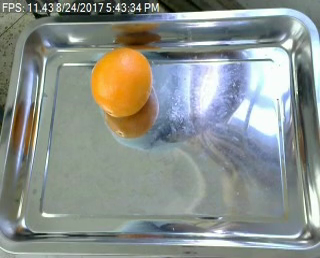Orange: (90, 46, 154, 117)
